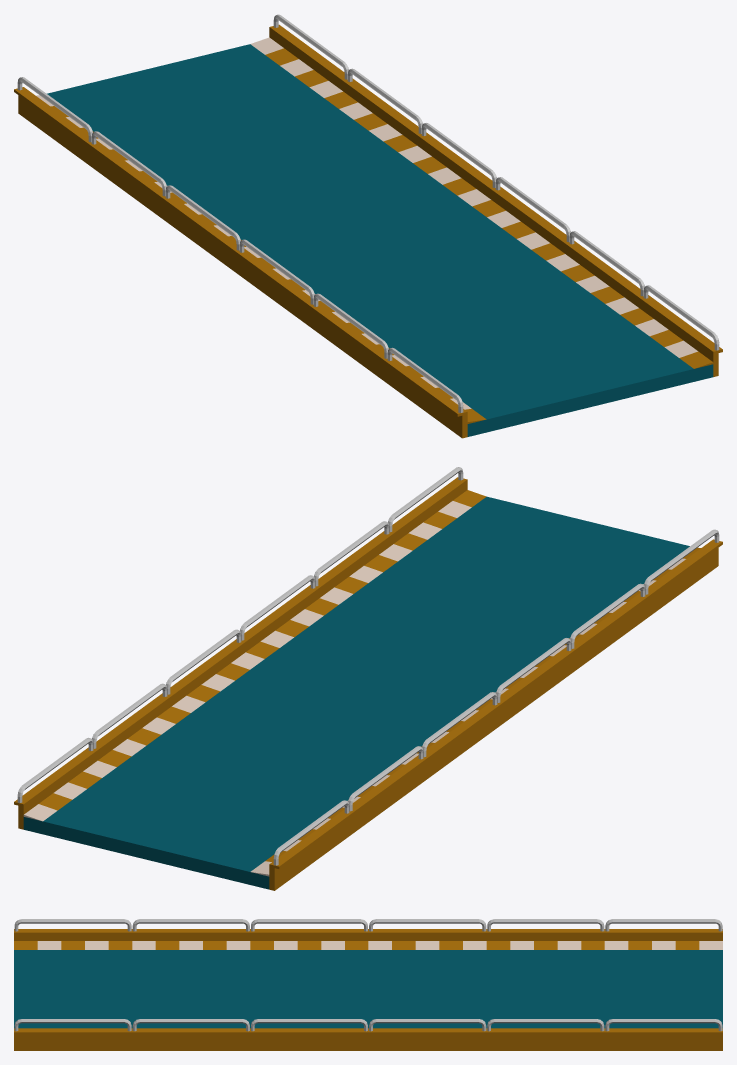
File: straight_l.FBX
3 views of the same model, one above another, from view 1: azimuth 30°, elevation 25°; view 2: azimuth 150°, elevation 25°; view 3: azimuth 270°, elevation 25° (orthographic). The views are drawn at different scales.
Parts seen in each view (by area): view 1: straight_l, wall_r, wall_l, curbs_l, curbs_r; view 2: straight_l, wall_r, wall_l, curbs_l, curbs_r; view 3: straight_l, wall_l, wall_r, curbs_r.
Part boxes in pixels (x1,y1,x2,y2): straight_l: (47, 44, 713, 436); wall_r: (14, 77, 467, 438); wall_l: (269, 14, 722, 376); curbs_l: (250, 37, 713, 368); curbs_r: (36, 95, 486, 423); straight_l: (23, 496, 689, 889); wall_r: (269, 529, 722, 890); wall_l: (14, 467, 467, 829); curbs_l: (23, 490, 486, 821); curbs_r: (250, 547, 700, 876); straight_l: (14, 950, 722, 1028); wall_l: (14, 1019, 722, 1050); wall_r: (14, 919, 722, 940); curbs_r: (14, 941, 722, 949).
Size of what is drawn, in the model's own units: 207 by 29.31 by 600.
